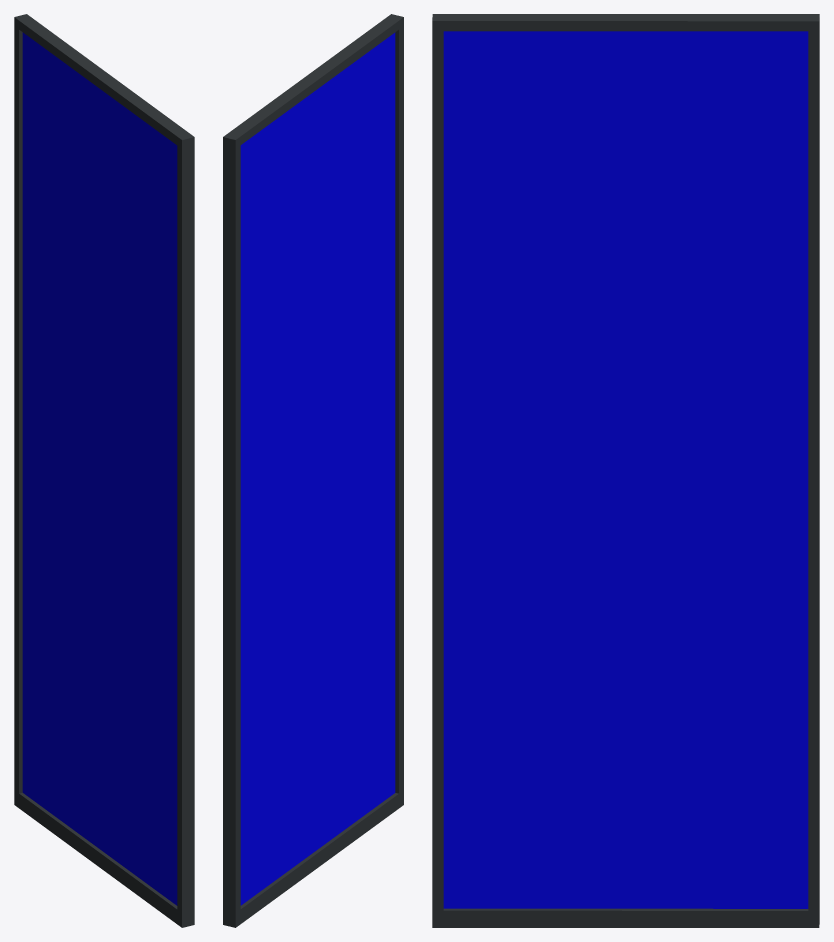
The model's file is MainDoor1Transformed4.fbx.
3 views of the same model, side by side, from view 1: azimuth 30°, elevation 25°; view 2: azimuth 150°, elevation 25°; view 3: azimuth 270°, elevation 25° (orthographic). The views are drawn at different scales.
Parts seen in each view (by area): view 1: Glazed_Internal Single Doors:DT-09:2041745; view 2: Glazed_Internal Single Doors:DT-09:2041745; view 3: Glazed_Internal Single Doors:DT-09:2041745.
Boxes of the visible parts, <box> form: Glazed_Internal Single Doors:DT-09:2041745: <box>14,14,194,927</box>; Glazed_Internal Single Doors:DT-09:2041745: <box>223,14,403,927</box>; Glazed_Internal Single Doors:DT-09:2041745: <box>432,14,819,927</box>.
Size of the model in its own units: 0.0452 by 2.65 by 1.03.
